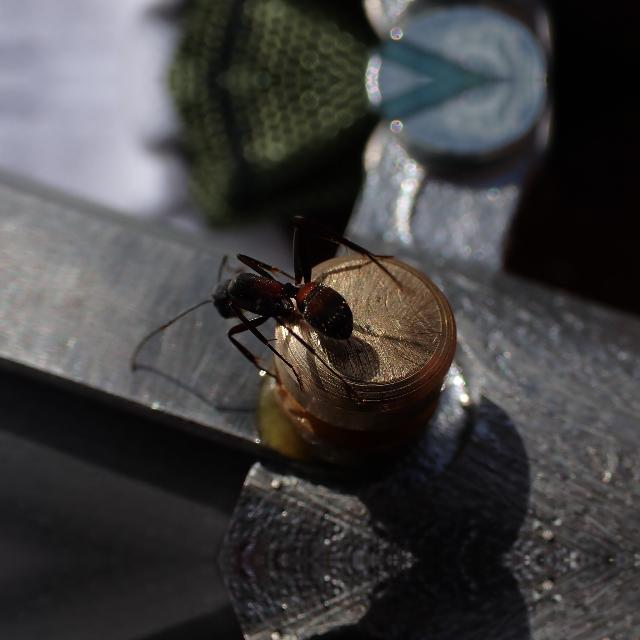Camponotus: (182, 236, 382, 358)
